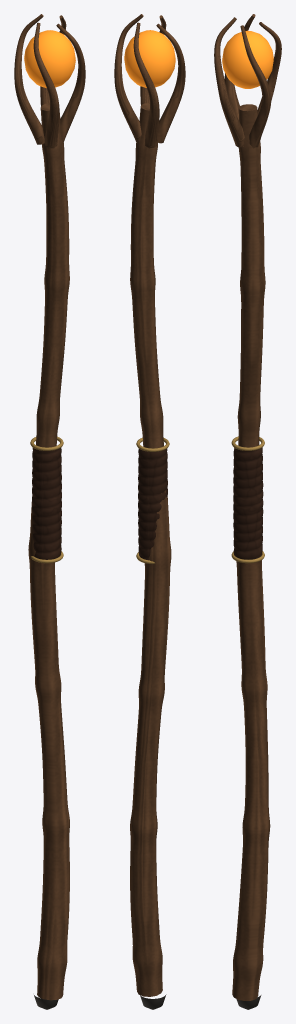
Rendered from oak-staff.glb.
The picture shows the model from 3 angles, left to right: view 1: azimuth 30°, elevation 25°; view 2: azimuth 210°, elevation 25°; view 3: azimuth 330°, elevation 25°; orthographic projection.
Parts seen in each view (by area): view 1: wood / oiled hardwood, leather / oiled leather wrap, crystal / faceted crystal, brass / polished brass furniture, iron / hammer-scaled wrought iron; view 2: wood / oiled hardwood, leather / oiled leather wrap, crystal / faceted crystal, brass / polished brass furniture, iron / hammer-scaled wrought iron; view 3: wood / oiled hardwood, leather / oiled leather wrap, crystal / faceted crystal, brass / polished brass furniture.
Boxes of the visible parts, box(x1,y1,x2,y2) form: wood / oiled hardwood: box(14, 14, 85, 1000); leather / oiled leather wrap: box(32, 447, 61, 559); crystal / faceted crystal: box(24, 30, 75, 87); brass / polished brass furniture: box(30, 436, 63, 563); iron / hammer-scaled wrought iron: box(34, 995, 58, 1009); wood / oiled hardwood: box(114, 14, 185, 996); leather / oiled leather wrap: box(138, 448, 167, 560); crystal / faceted crystal: box(124, 30, 175, 87); brass / polished brass furniture: box(136, 437, 169, 563); iron / hammer-scaled wrought iron: box(140, 994, 166, 1009); wood / oiled hardwood: box(214, 14, 281, 1000); leather / oiled leather wrap: box(233, 447, 263, 559); crystal / faceted crystal: box(222, 30, 273, 88); brass / polished brass furniture: box(231, 436, 264, 563).
Bounding box in the file's own units: 0.1067 × 1.77 × 0.1067.
5 materials, 4 textured.
